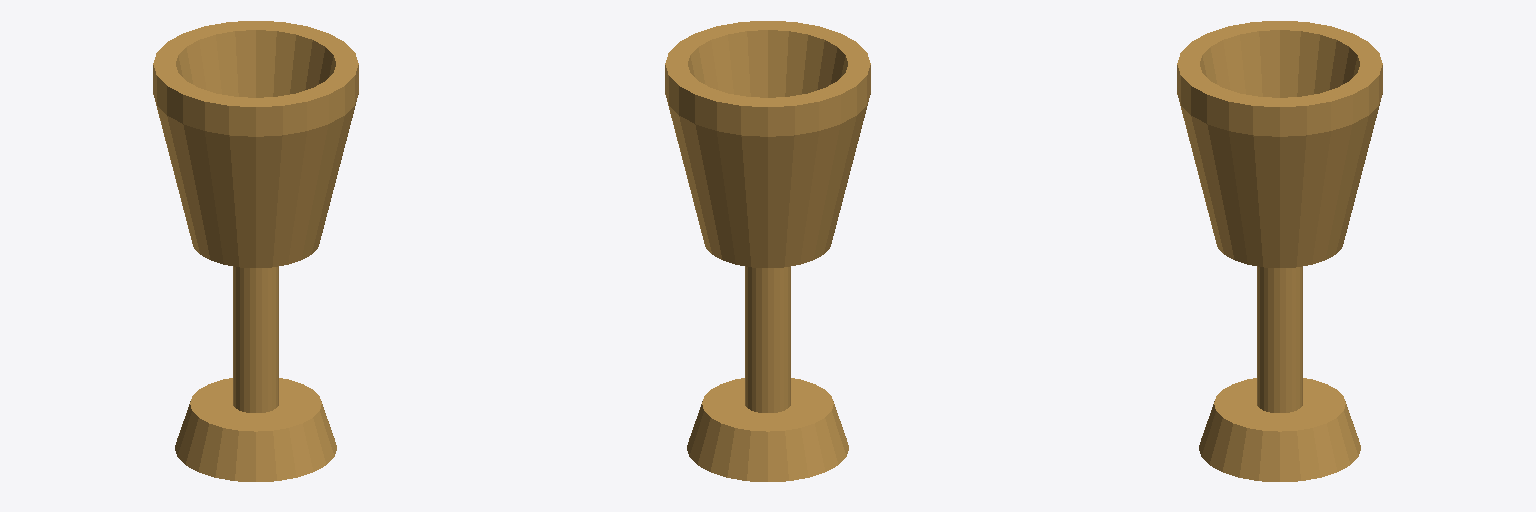
File: detailChalice.obj
The picture shows the model from 3 angles: view 1: azimuth 30°, elevation 25°; view 2: azimuth 150°, elevation 25°; view 3: azimuth 270°, elevation 25°; orthographic projection.
Parts seen in each view (by area): view 1: detailChalice; view 2: detailChalice; view 3: detailChalice.
Boxes of the visible parts, box(x1,y1,x2,y2) form: detailChalice: box(153, 21, 358, 481); detailChalice: box(665, 21, 870, 481); detailChalice: box(1177, 21, 1382, 481).
Size of the model in its own units: 0.7064 by 1.46 by 0.7064.